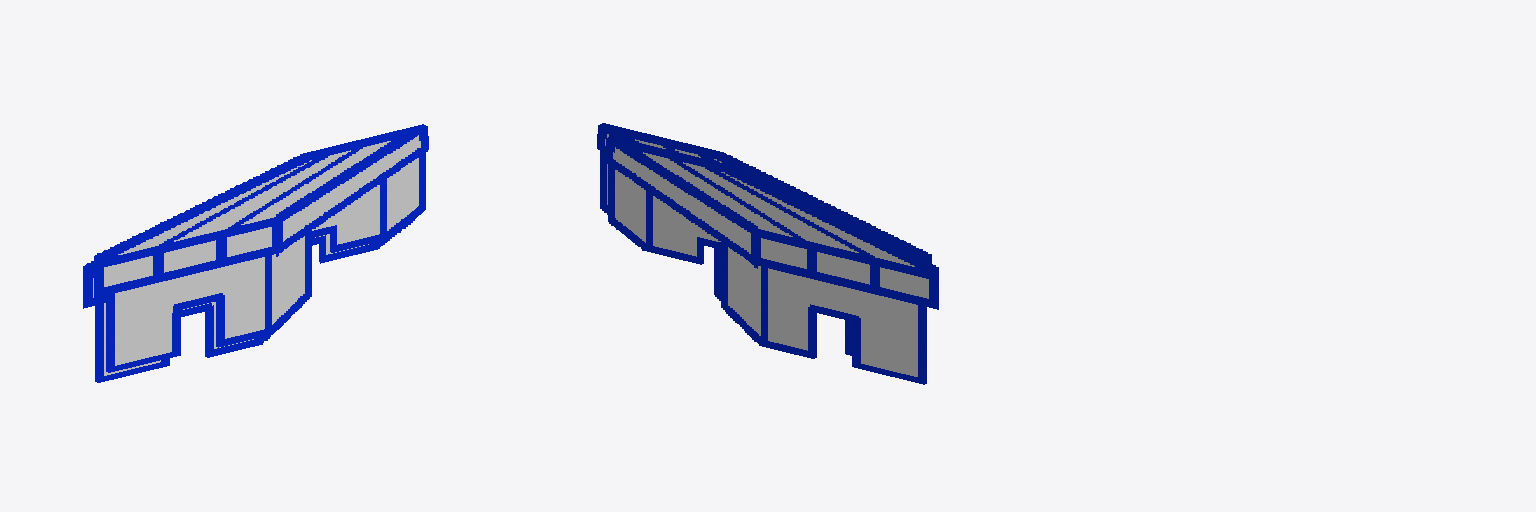
3 renders of one model, left to right at view 1: azimuth 30°, elevation 25°; view 2: azimuth 150°, elevation 25°; view 3: azimuth 270°, elevation 25°, orthographic.
Parts seen in each view (by area): view 1: pPlane2; view 2: pPlane2; view 3: none.
Boxes of the visible parts, x1,y1,x2,y2 form: pPlane2: [83, 124, 428, 382]; pPlane2: [597, 123, 938, 384].
Bounding box in the file's own units: 1.61 × 0.833 × 0.015.
Materials: 1 (1 with a texture image).